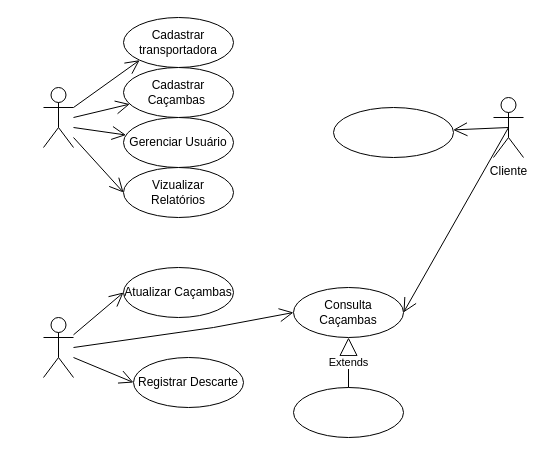
This 544x455 diagram has some shape labels left out. The centre of each missing label's shape, as x and y in pixels:
"Administrador" belongs at (x=58, y=117).
"Histórico de Descarte" belongs at (x=348, y=412).
"Solicitar Coleta de Residuo" belongs at (x=393, y=132).
"Transportadora" belongs at (x=58, y=347).
